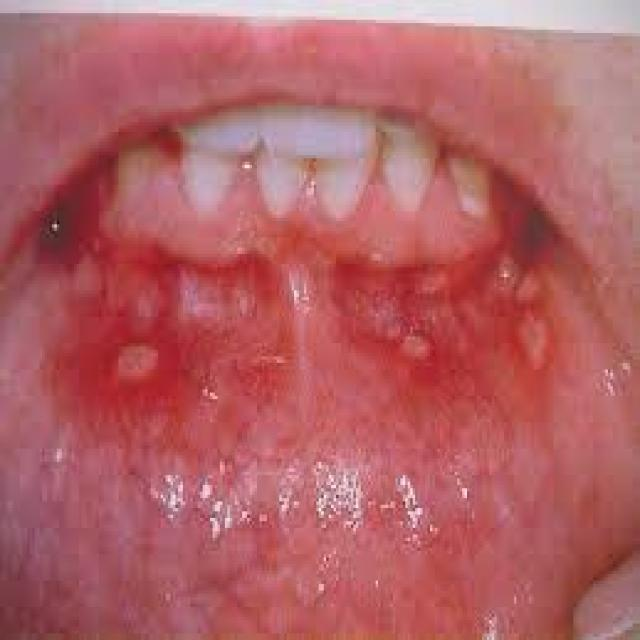processing_area: (2, 168, 630, 637)
ulcer-detection: (327, 228, 570, 403), (78, 295, 203, 416)
